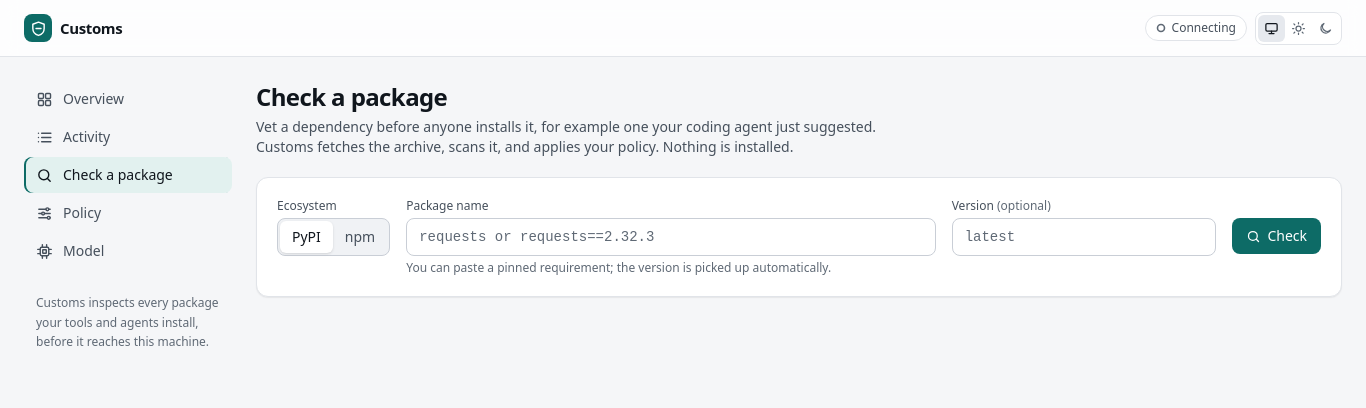
Check page › shows other 404s as errors, not as a nonexistent package
The image size is (1366, 408).
Type "requests" into the field labelled "Package name" at (671, 237), box [406,218,936,256]
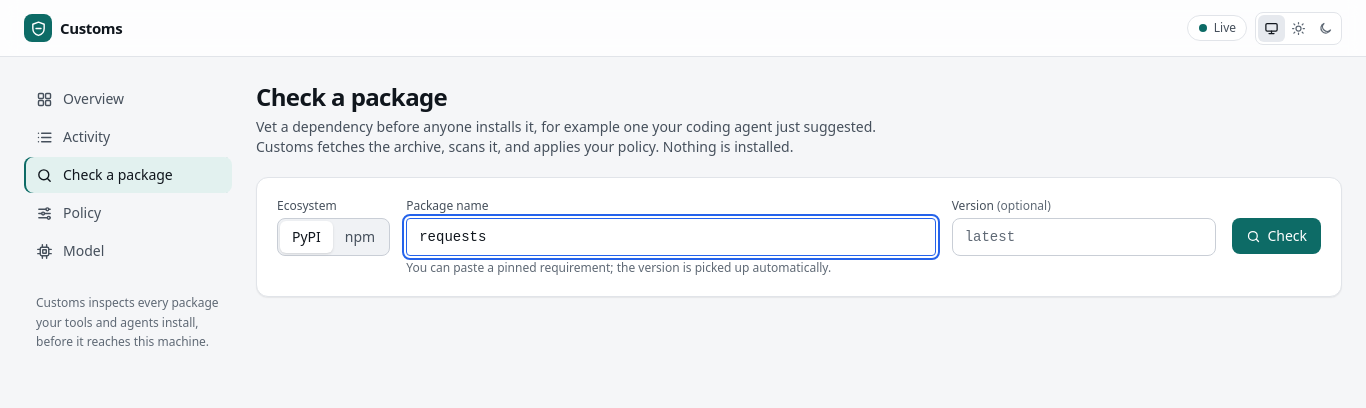
Click the button "Check" at (1277, 236), box [1232,218,1321,254]
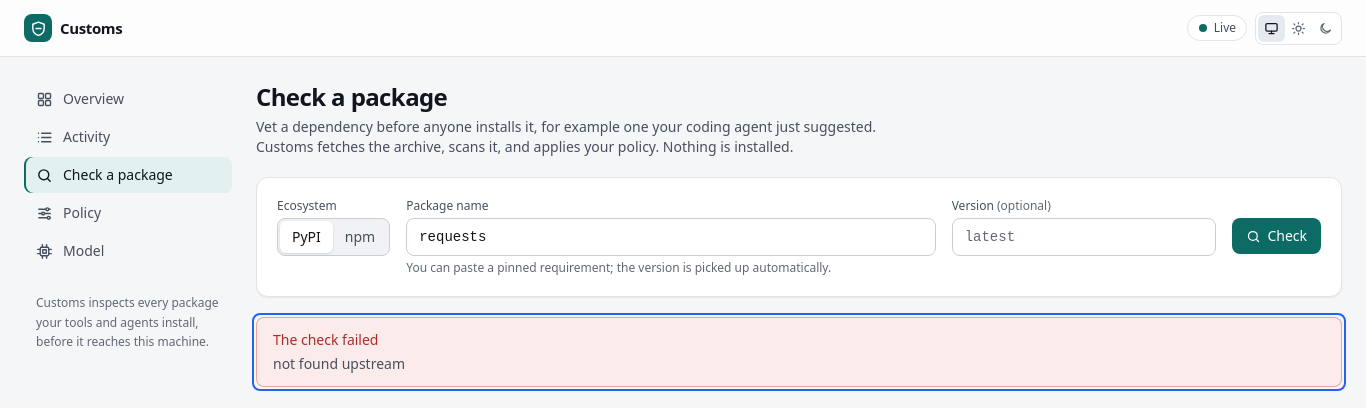
Now the text "The check failed" is shown, box [273,330,378,349]
Now the text "not found upstream" is shown, box [273,354,405,373]
